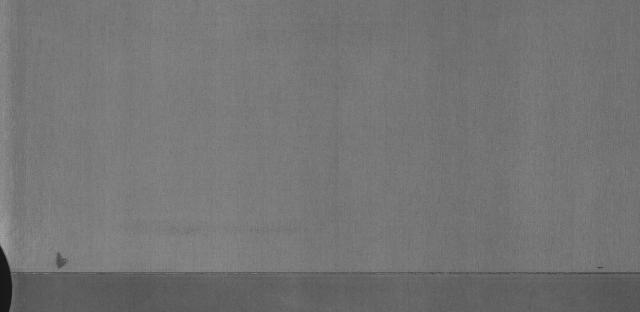oil_spot: (51, 251, 71, 269)
welding_line: (7, 264, 640, 286)
